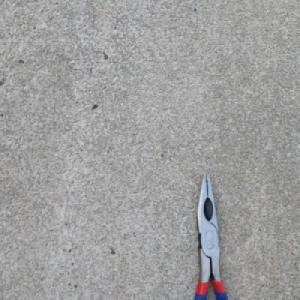Pliers: (190, 169, 230, 300)
